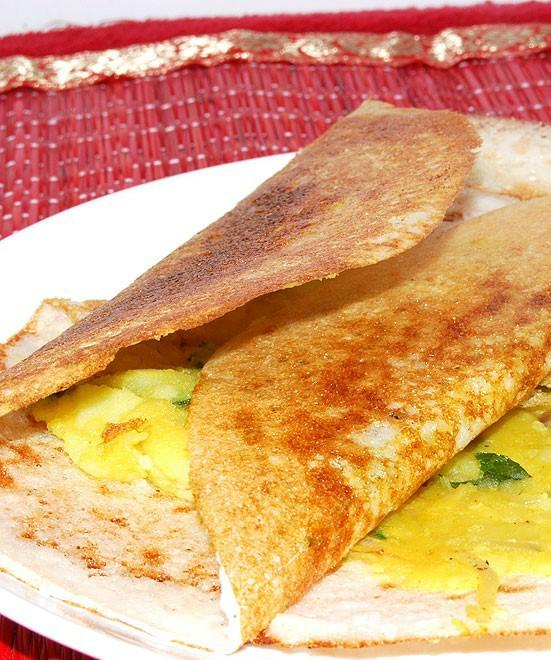Dosa: (0, 100, 551, 655), (251, 371, 551, 650)
